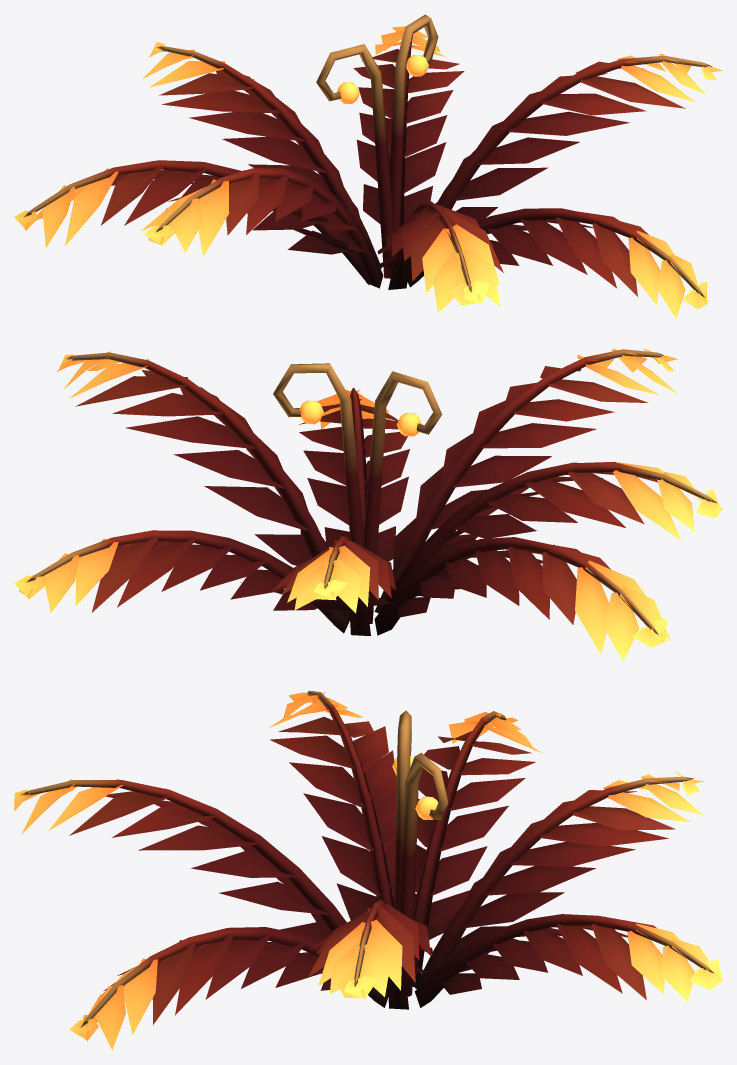
File: ember_fern.glb
3 views of the same model, one above another, from view 1: azimuth 30°, elevation 25°; view 2: azimuth 150°, elevation 25°; view 3: azimuth 270°, elevation 25° (orthographic). The views are drawn at different scales.
Parts seen in each view (by area): view 1: ember_fern; view 2: ember_fern; view 3: ember_fern.
Boxes of the visible parts, x1,y1,x2,y2 form: ember_fern: (14, 14, 722, 318); ember_fern: (14, 348, 722, 661); ember_fern: (14, 690, 722, 1049).
Bounding box in the file's own units: 1.34 × 0.4904 × 1.22.
